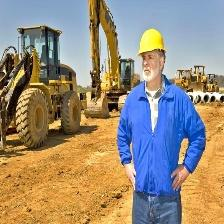Person: (114, 25, 194, 224)
helmet: (137, 27, 170, 59)
no-vest: (123, 80, 194, 196)
